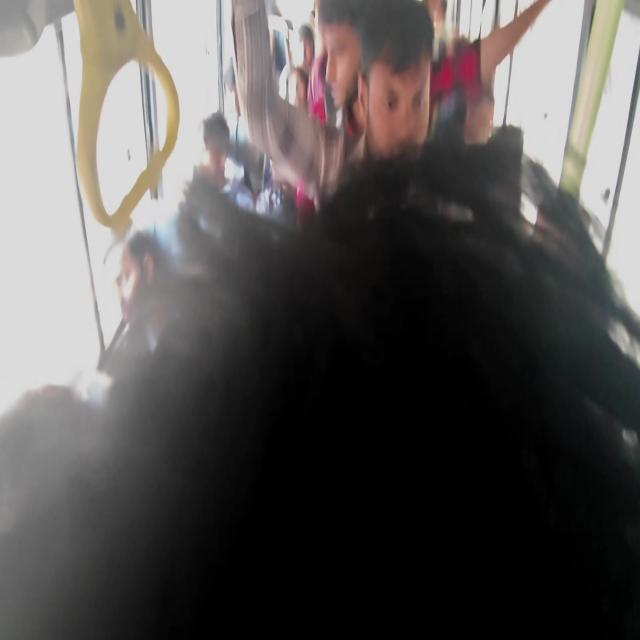person: (277, 243, 510, 640), (361, 23, 426, 166), (321, 5, 366, 94), (494, 126, 541, 200), (195, 124, 236, 204), (112, 226, 157, 297), (297, 31, 316, 83), (290, 69, 308, 119), (270, 22, 286, 65)
